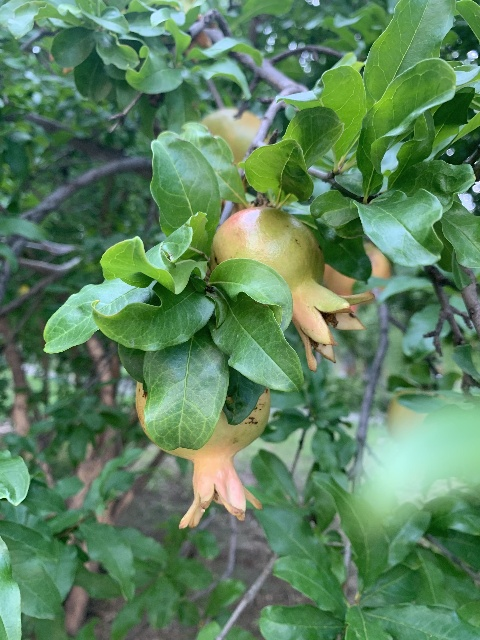mid-growth: (210, 206, 375, 373), (137, 380, 270, 528), (323, 242, 391, 314), (201, 107, 262, 166)
